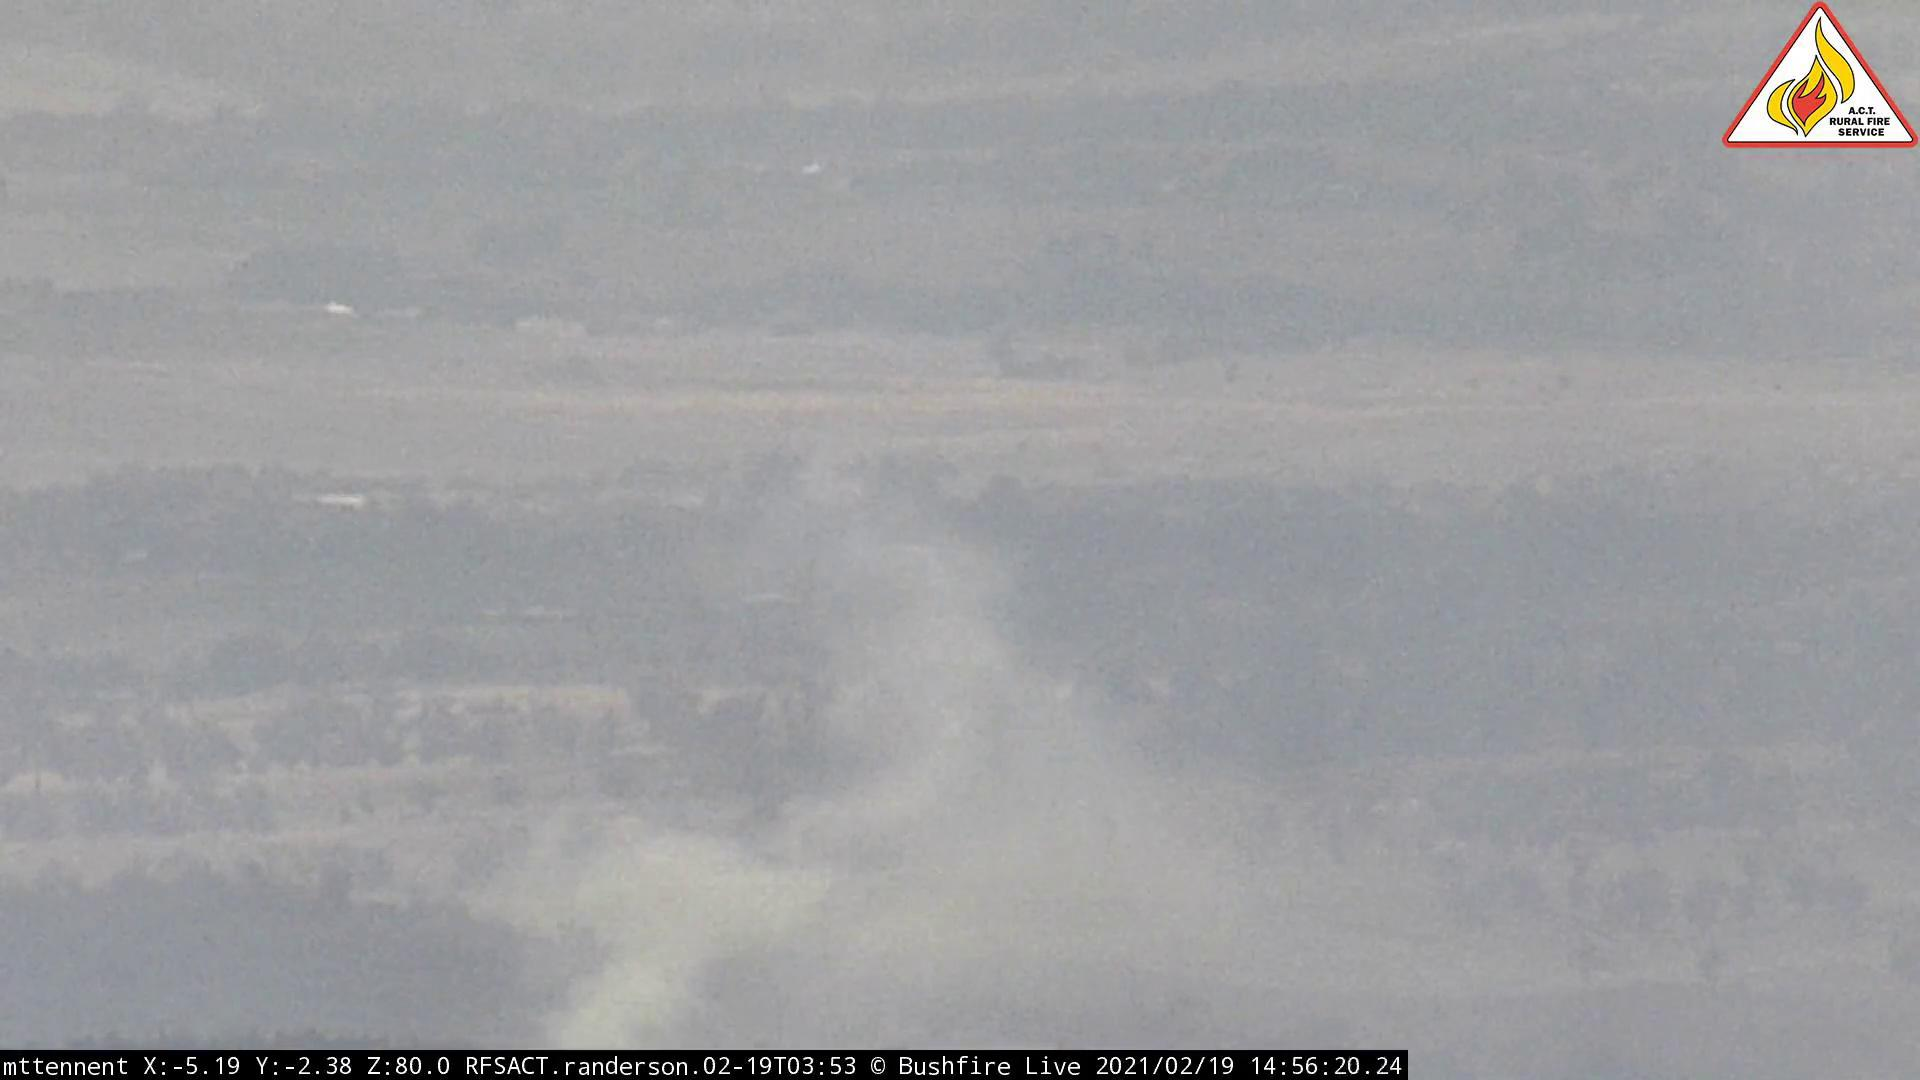instance_salient_object: (529, 469, 1366, 1043)
